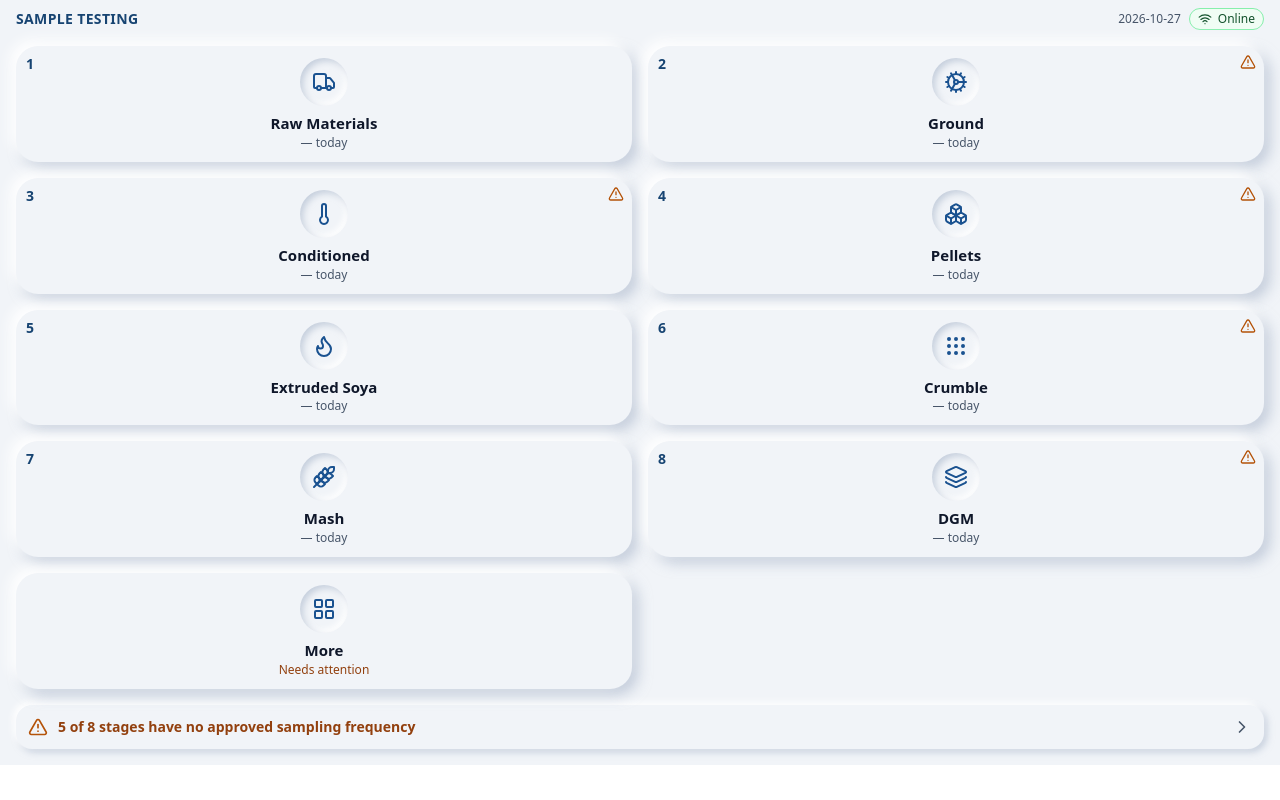
Test: the More tile › keeps the three queue figures separate instead of summing them
Expected: the button "More" does not show "7"
What coordinates should you click on to do the following:
click the button "More Needs attention"
I would click on:
 (324, 631)
Its box is [16, 573, 632, 689].
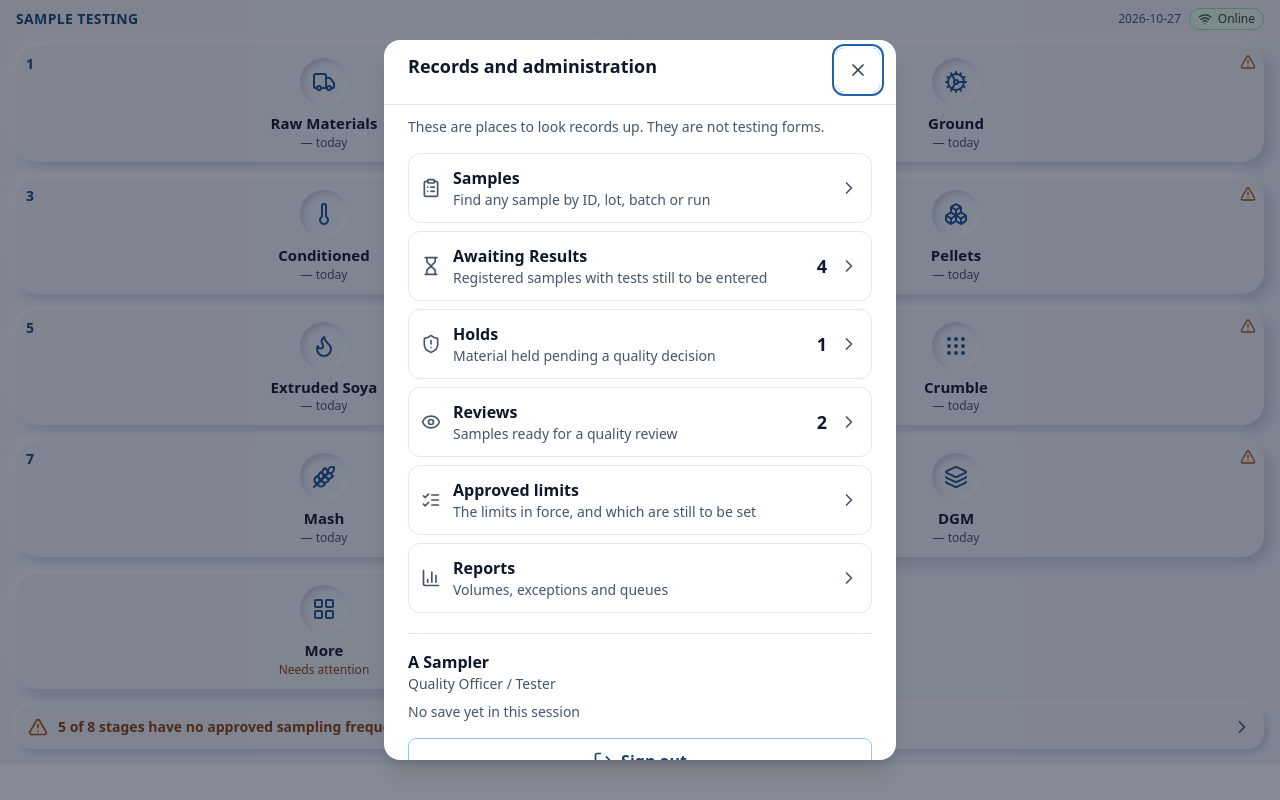
Expected: the link that starts with "Awaiting Results" shows "4", [408, 231, 872, 301]
Expected: the link "Reviews Samples ready for a quality review 2" is shown, [408, 387, 872, 457]
Expected: the link "Holds Material held pending a quality decision 1" is shown, [408, 309, 872, 379]
